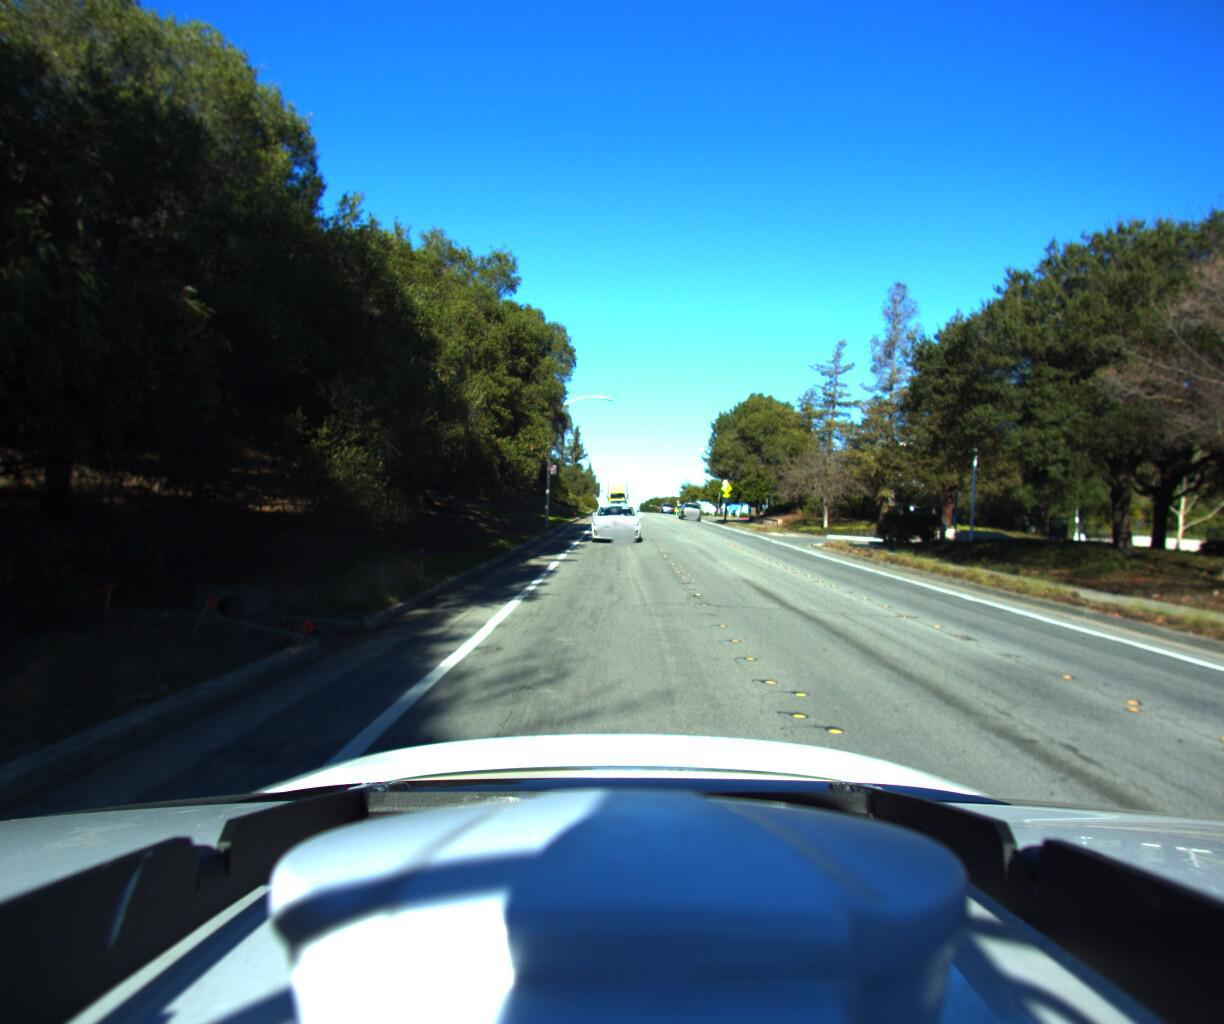car: (587, 492, 646, 546), (674, 499, 700, 522)
